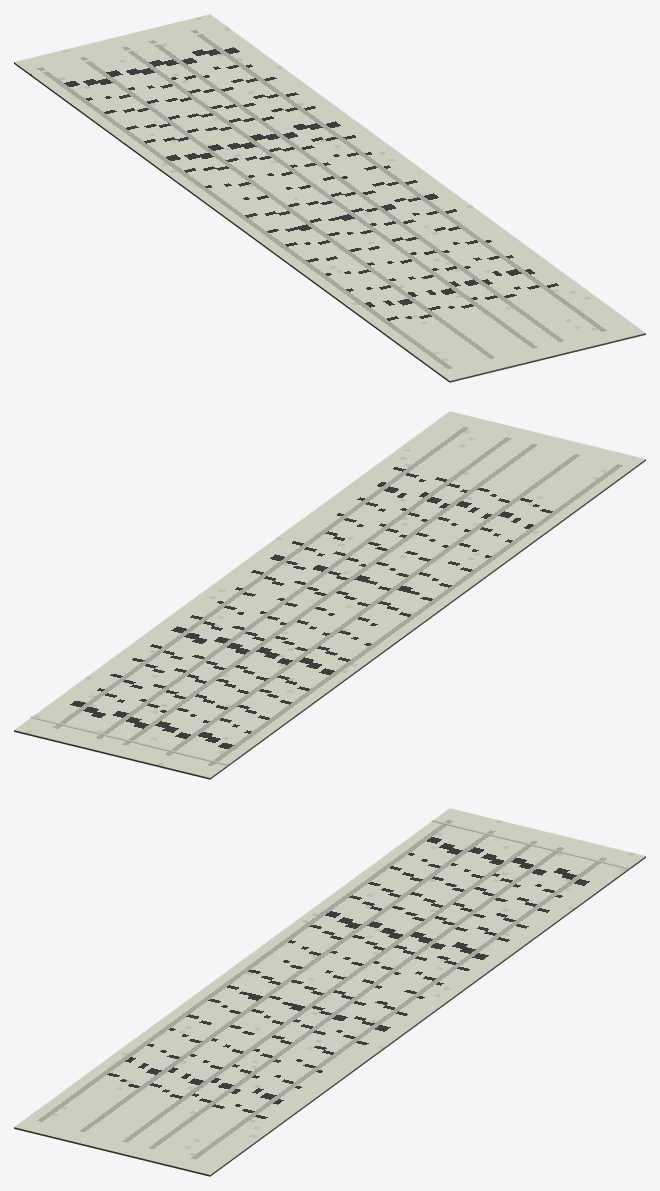
Rendered from small_printout_portal_storm_data.glb.
3 views of the same model, one above another, from view 1: azimuth 30°, elevation 25°; view 2: azimuth 150°, elevation 25°; view 3: azimuth 330°, elevation 25° (orthographic).
Parts seen in each view (by area): view 1: block_printed paper; view 2: block_printed paper, block_curled end; view 3: block_printed paper.
Boxes of the visible parts, x1,y1,x2,y2 form: block_printed paper: [14, 14, 645, 382]; block_printed paper: [14, 411, 645, 779]; block_curled end: [30, 716, 228, 766]; block_printed paper: [14, 808, 645, 1176].
Bounding box in the file's own units: 0.0504 × 0.000695 × 0.194.
1 material, 1 textured.
